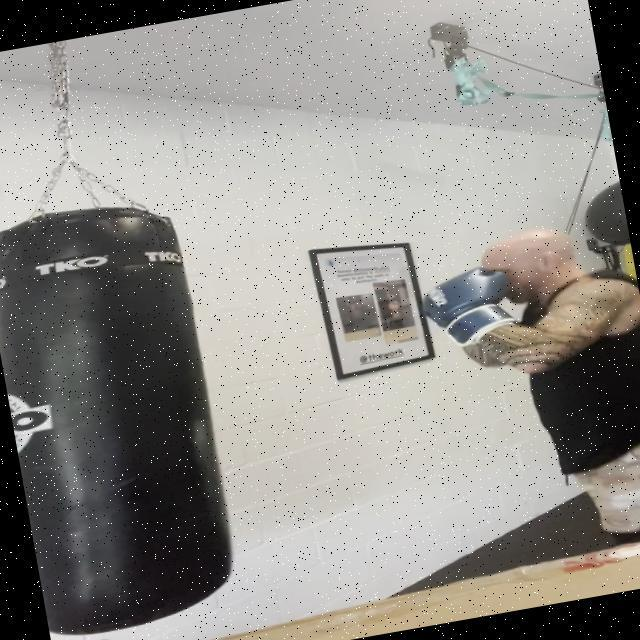bag: (0, 184, 267, 638)
no punch: (391, 202, 640, 401)
